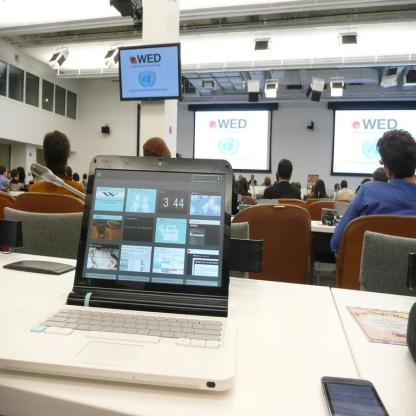board: (0, 156, 233, 392)
